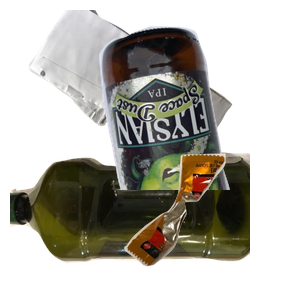glass: (97, 24, 300, 204)
paper: (27, 10, 252, 187)
plastic: (10, 149, 250, 300)
trash: (122, 151, 300, 300)
